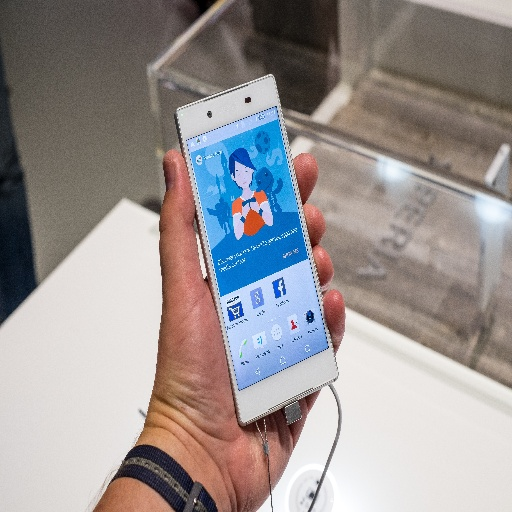hand: (160, 148, 346, 511)
